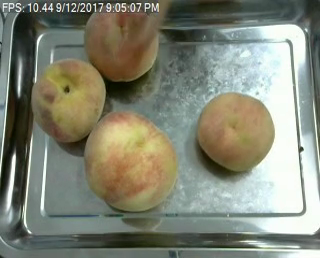Peach: (83, 109, 177, 213), (30, 58, 105, 144), (196, 90, 275, 171), (84, 3, 158, 82)
